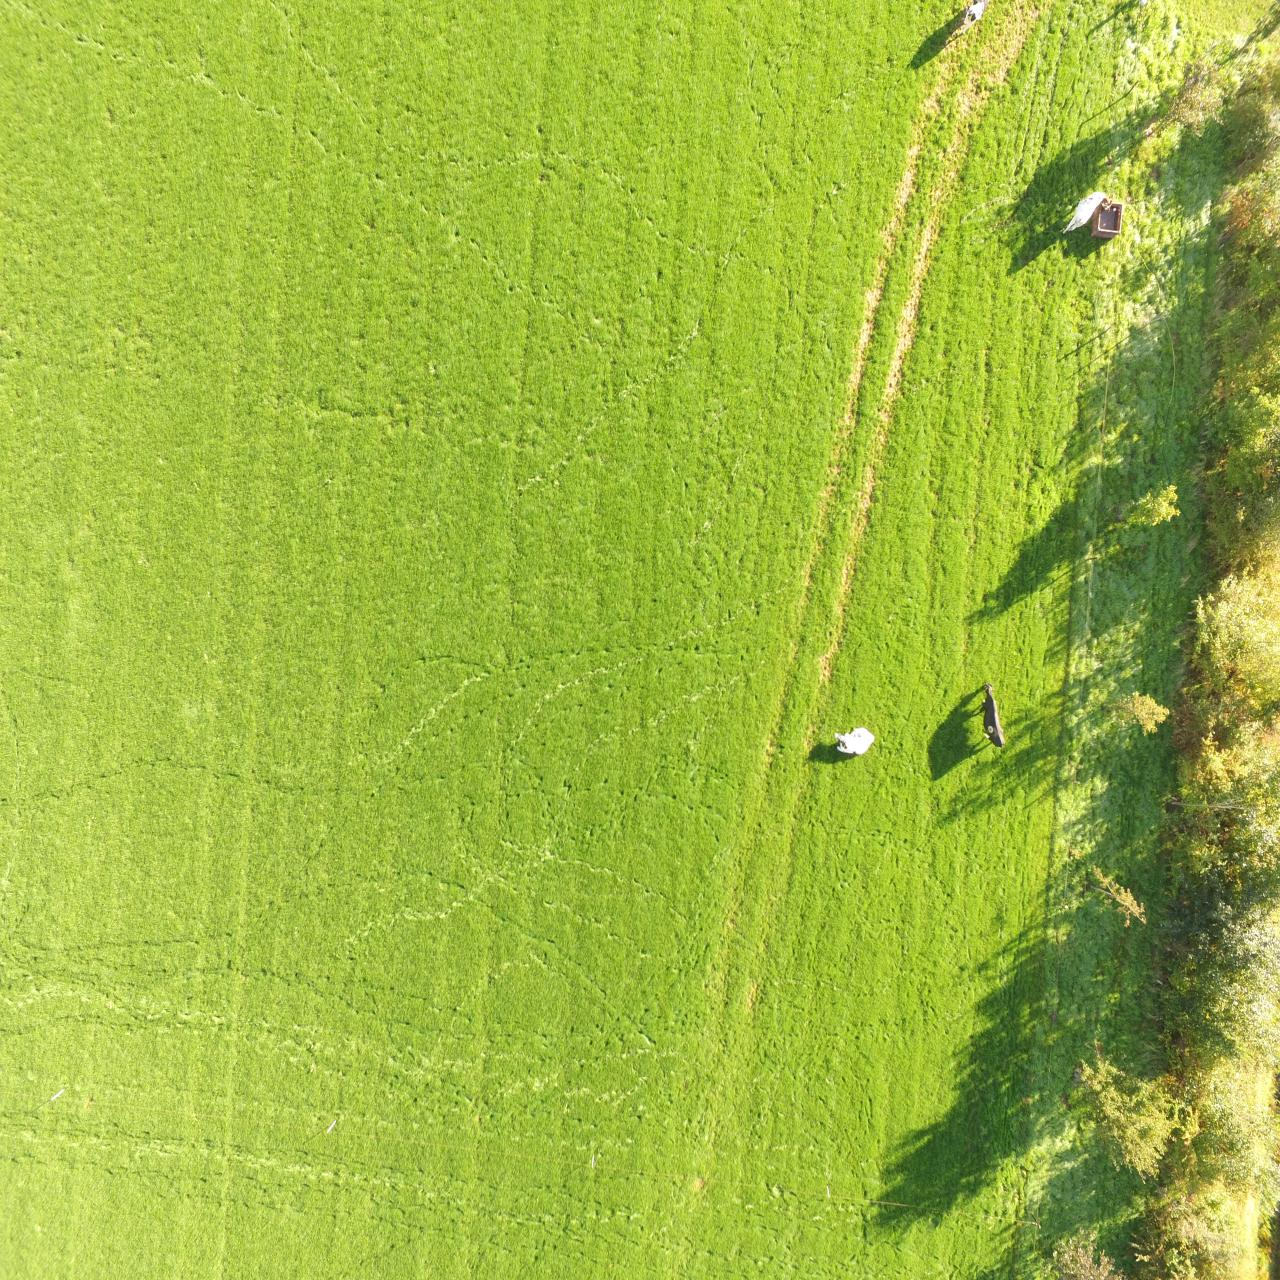cow: (1058, 189, 1118, 238), (979, 679, 1010, 750), (831, 724, 878, 761)
